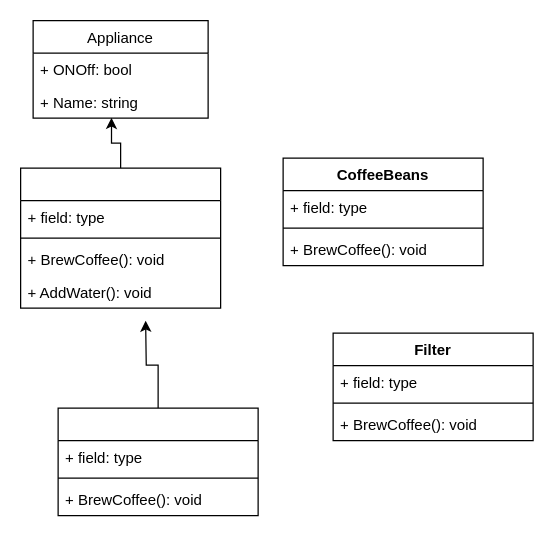
Image size: 554x536. Some labels were removed from this diagram. Here are the shapes that lost their labels. From the top down, the box of each, then its label:
(19, 167, 221, 308): CoffeeMaker
(57, 407, 258, 516): Nespresso
